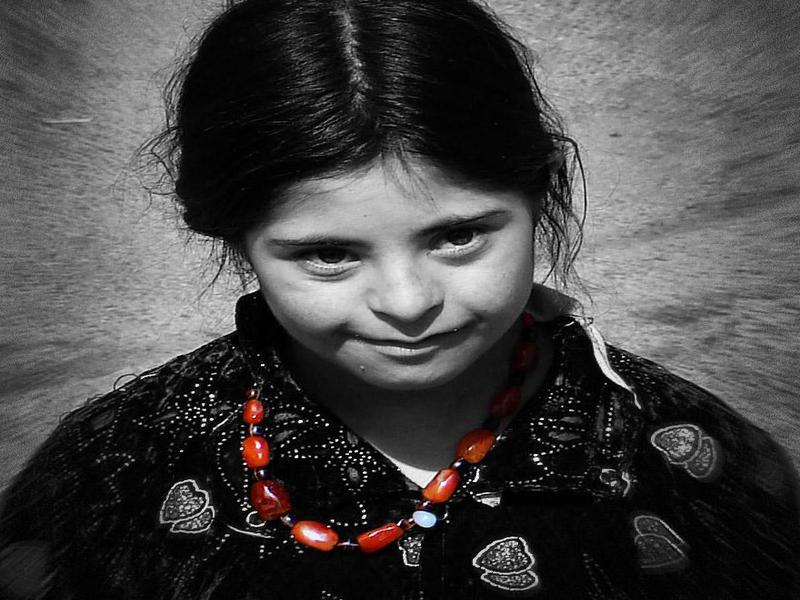person: (31, 2, 788, 600)
